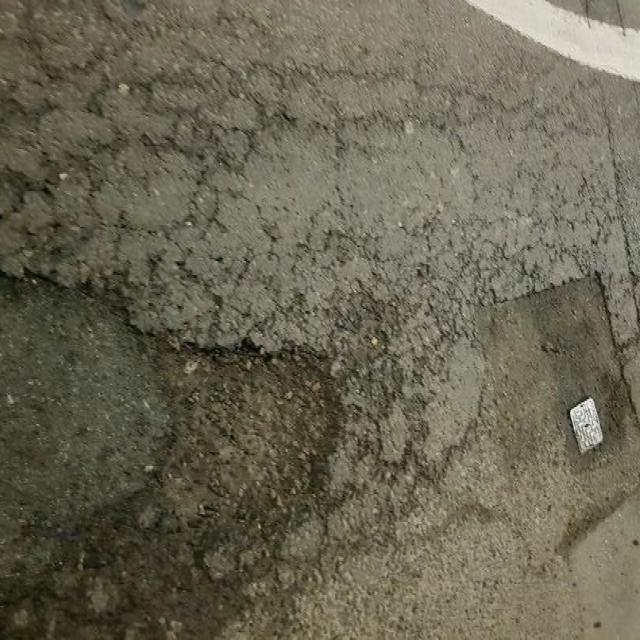Pothole: (153, 323, 351, 572)
